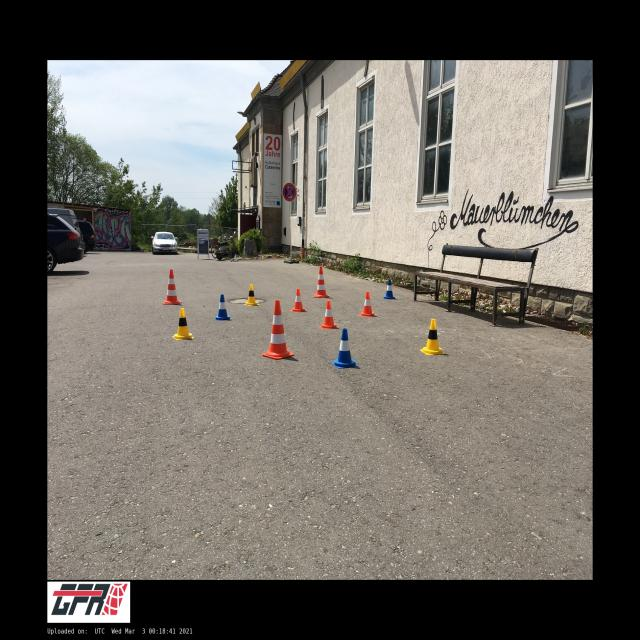blue_cone: (332, 329, 358, 369), (214, 295, 231, 321), (383, 280, 395, 300)
large_orange_cone: (262, 300, 294, 360), (162, 269, 182, 305), (314, 266, 329, 298)
orange_cone: (320, 301, 339, 329), (359, 291, 377, 317), (290, 289, 307, 312)
yellow_cone: (420, 319, 445, 354), (172, 308, 194, 340), (243, 284, 260, 306)
